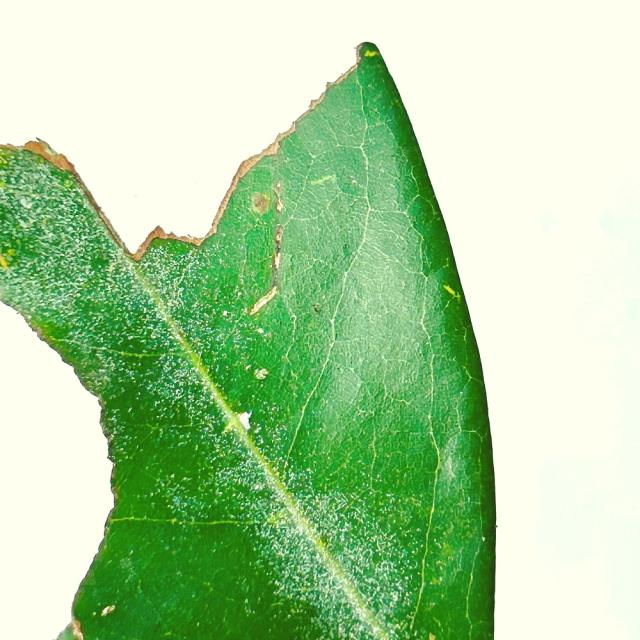Deficiency Leaf: (0, 45, 356, 251), (0, 302, 112, 609)
Lychee: (0, 42, 495, 639)
